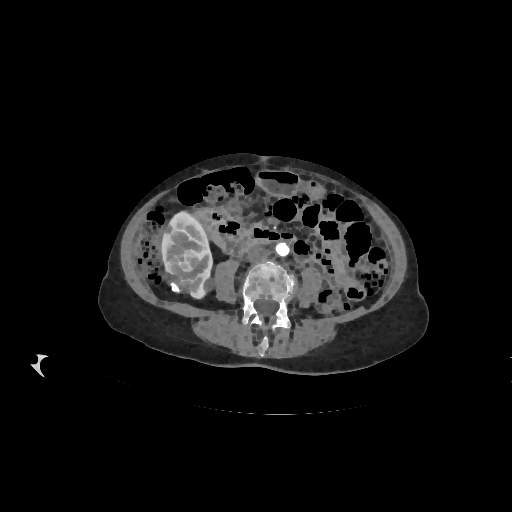Lesion: (170, 245, 201, 274)
